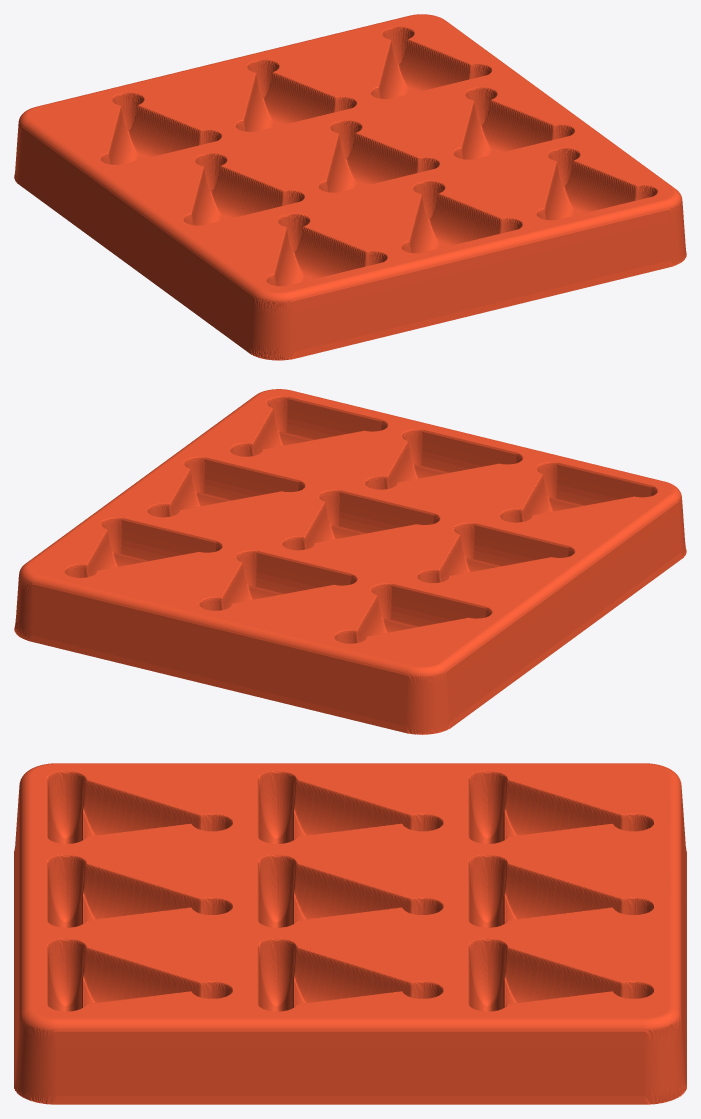
Rendered from mold.glb.
3 views of the same model, one above another, from view 1: azimuth 30°, elevation 25°; view 2: azimuth 150°, elevation 25°; view 3: azimuth 270°, elevation 25° (orthographic). The views are drawn at different scales.
Visible parts, largest first — view 1: geometry_0; view 2: geometry_0; view 3: geometry_0.
Boxes of the visible parts, box(x1,y1,x2,y2) form: geometry_0: box(14, 14, 686, 360); geometry_0: box(14, 389, 686, 734); geometry_0: box(14, 763, 686, 1104).
Size of the model in its own units: 0.1324 by 0.0182 by 0.1402.
